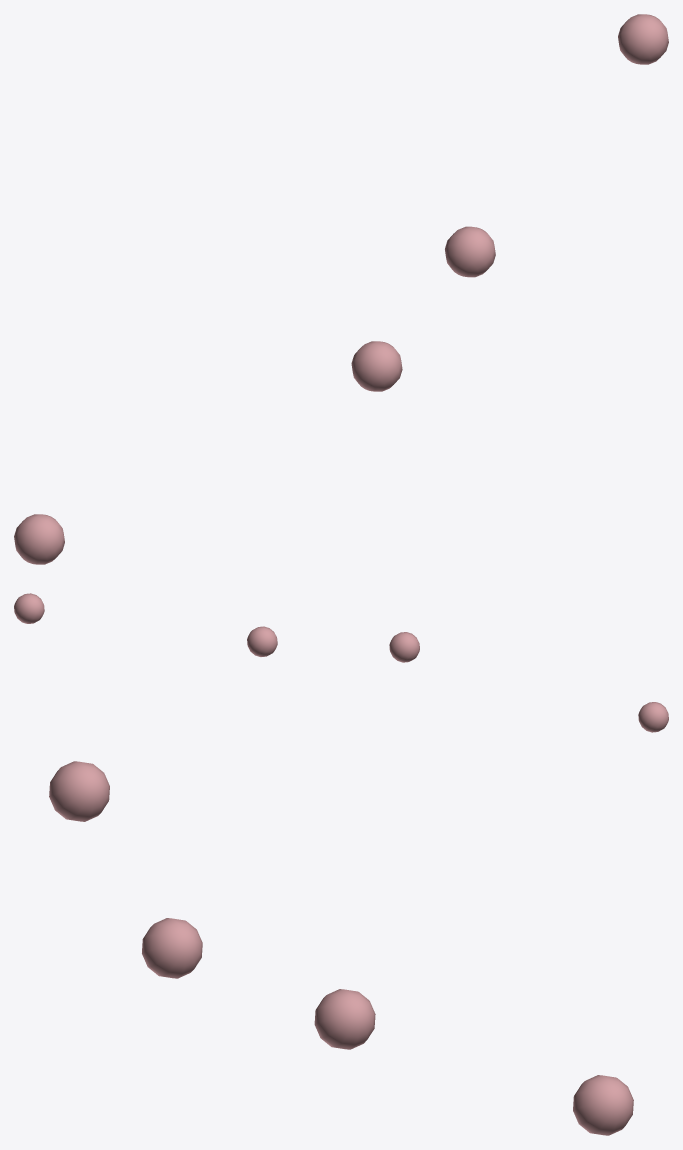
3 views of the same model, one above another, from view 1: azimuth 30°, elevation 25°; view 2: azimuth 150°, elevation 25°; view 3: azimuth 270°, elevation 25° (orthographic). The views are drawn at different scales.
Visible parts, largest first — view 1: ZA_a49c7e075f32a4b5; view 2: ZA_a49c7e075f32a4b5; view 3: ZA_a49c7e075f32a4b5.
Part boxes in pixels (<box>): ZA_a49c7e075f32a4b5: <box>14,14,668,564</box>; ZA_a49c7e075f32a4b5: <box>14,593,668,732</box>; ZA_a49c7e075f32a4b5: <box>49,761,633,1135</box>.
Bounding box in the file's own units: 0.0504 × 0.0103 × 0.0245.
